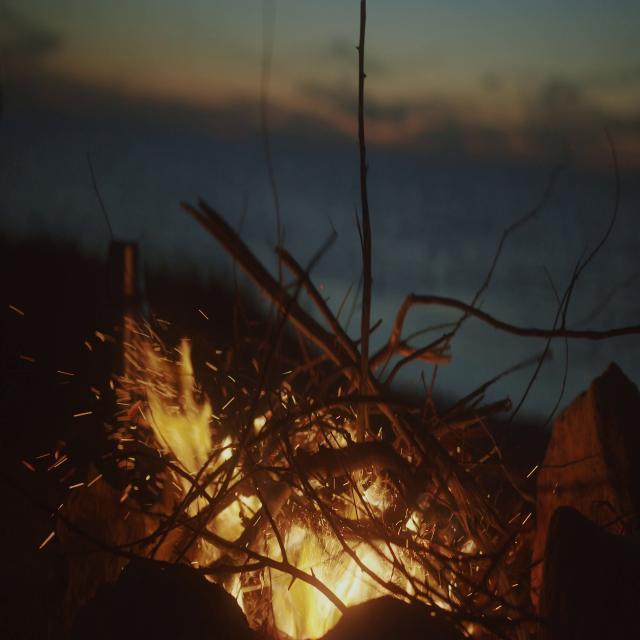Fire: (149, 340, 425, 635)
